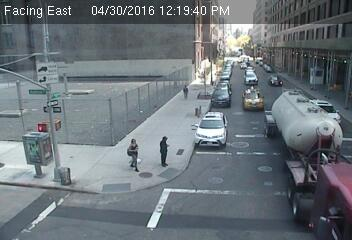neg: (260, 154, 314, 225), (313, 101, 346, 146), (34, 134, 60, 170), (276, 109, 301, 143), (241, 88, 258, 111), (205, 120, 221, 141)
pos: (151, 131, 179, 168), (120, 134, 146, 170), (178, 80, 194, 102)
